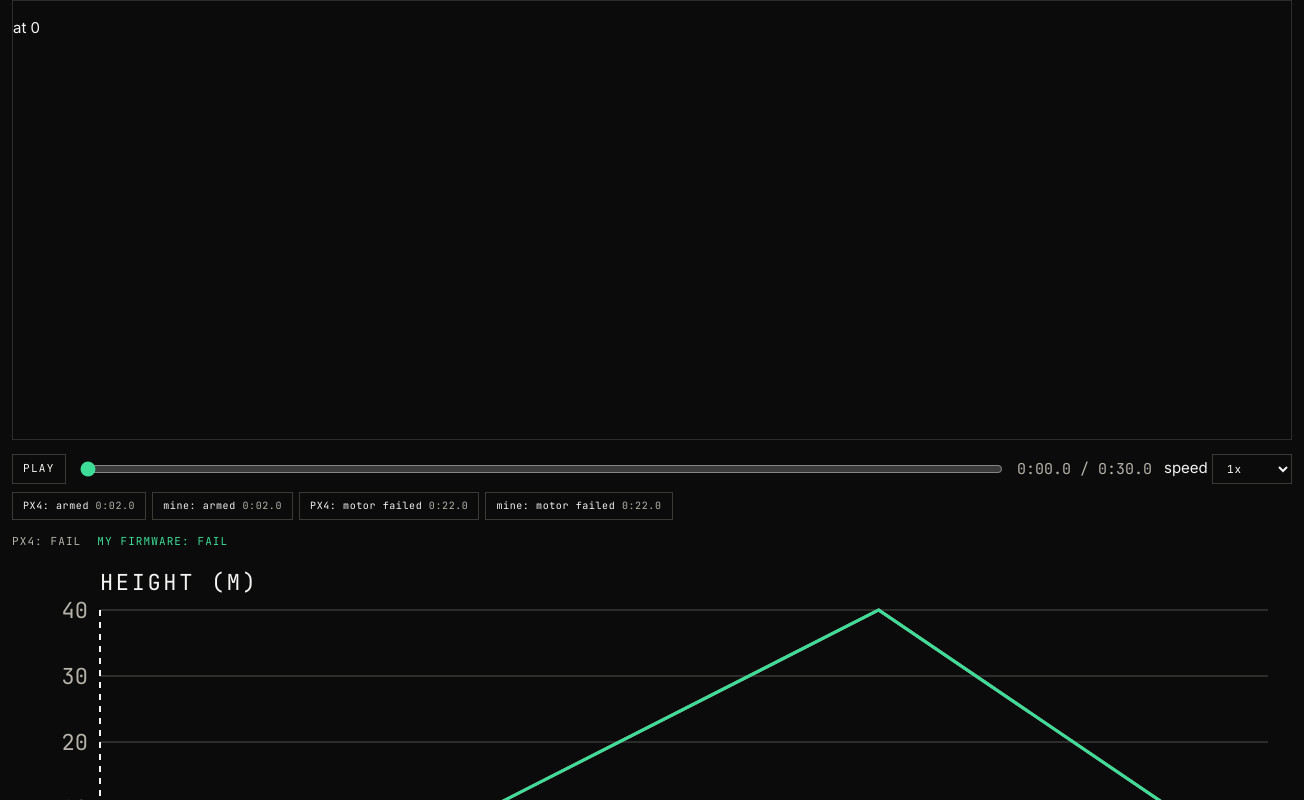
Test: a run plays both firmwares on one clock, the events appearing as they come
Click the button "PX4: motor failed 0:22.0": (389, 506) [299,492,479,520]
(page scrolled)
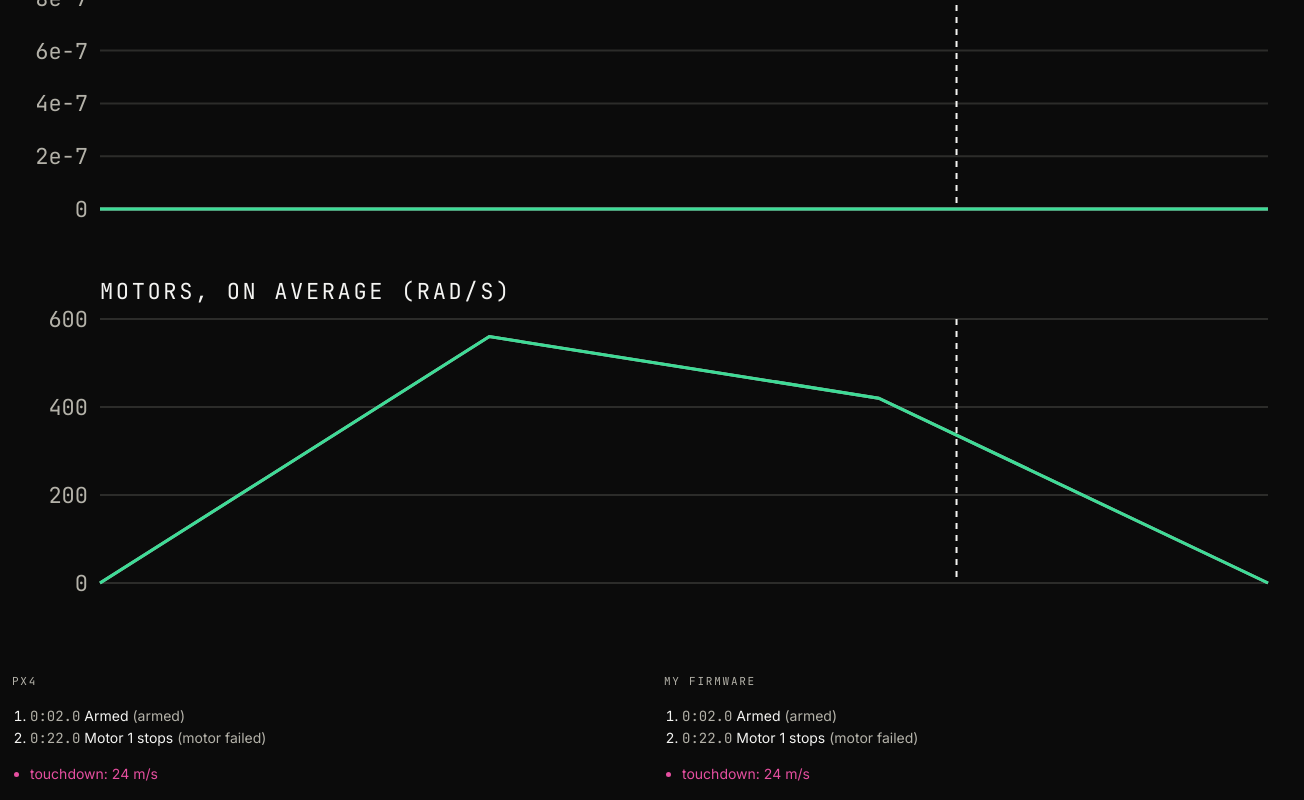
Expected: the 1st list item "touchdown: 24 m/s" is shown, [30,765,158,782]
Expected: the 1st text "(motor failed)" is shown, [177,729,266,746]
